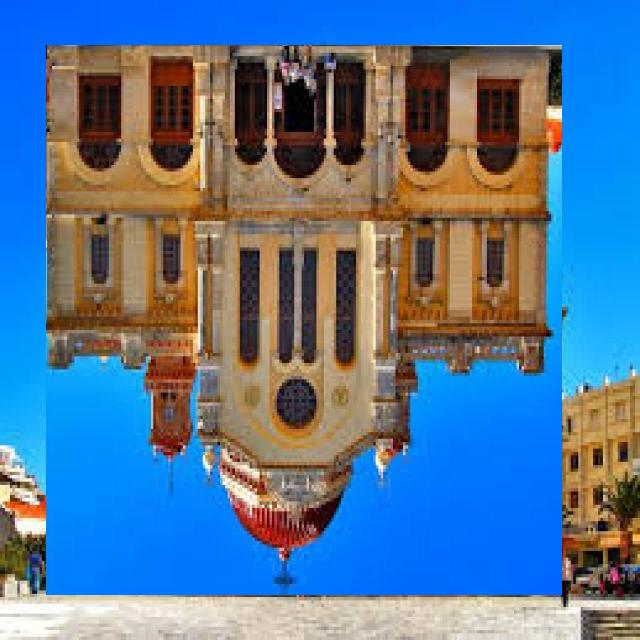Agios Minas: (47, 46, 563, 596)
